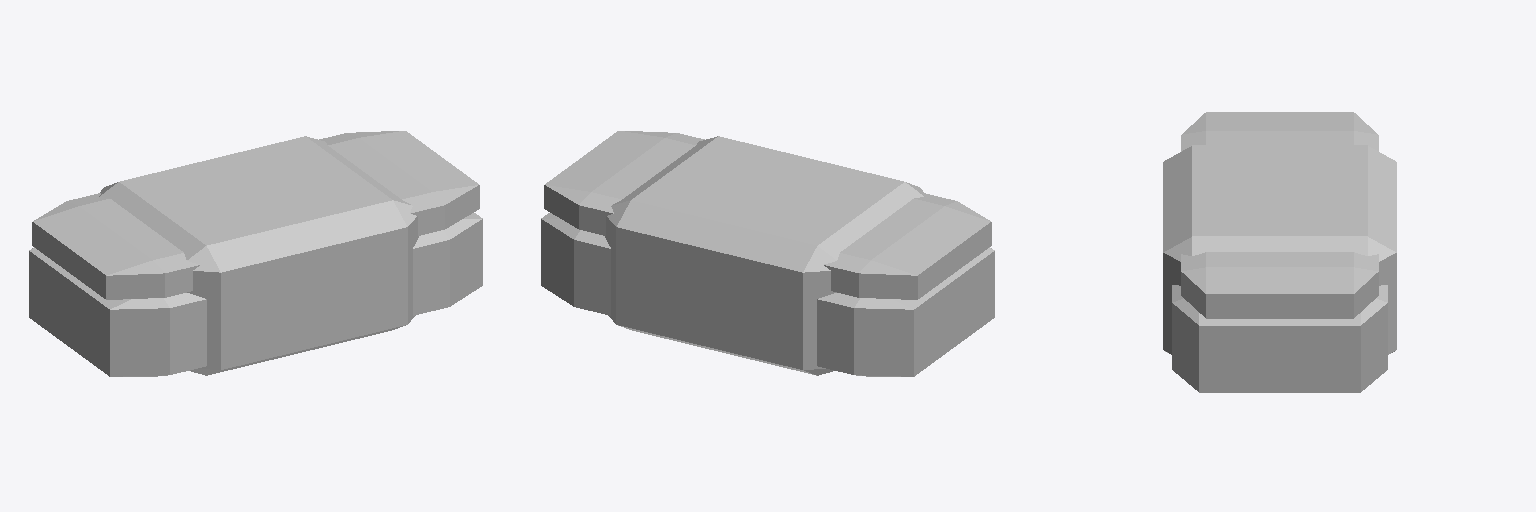
The model's file is Spam Musubi.obj.
3 views of the same model, side by side, from view 1: azimuth 30°, elevation 25°; view 2: azimuth 150°, elevation 25°; view 3: azimuth 270°, elevation 25° (orthographic).
Visible parts, largest first — view 1: block_rounded_38, block_rounded_34, block_rounded_33; view 2: block_rounded_38, block_rounded_34, block_rounded_33; view 3: block_rounded_38, block_rounded_34, block_rounded_33.
Boxes of the visible parts, x1,y1,x2,y2 form: block_rounded_38: [99, 136, 418, 375]; block_rounded_34: [32, 131, 479, 299]; block_rounded_33: [29, 213, 482, 376]; block_rounded_38: [605, 136, 924, 375]; block_rounded_34: [544, 131, 991, 299]; block_rounded_33: [541, 213, 994, 376]; block_rounded_38: [1163, 145, 1396, 354]; block_rounded_34: [1181, 112, 1378, 318]; block_rounded_33: [1172, 285, 1387, 392].
Bounding box in the file's own units: 4.8 × 1.6 × 2.6.